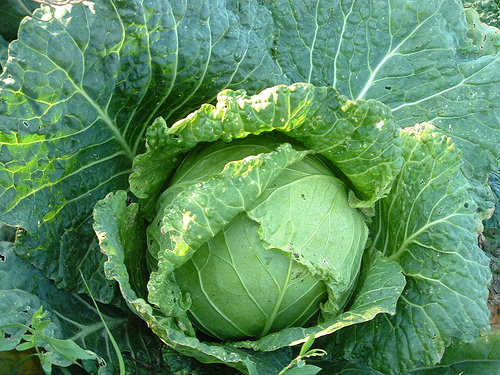cabbage: (147, 128, 376, 340)
